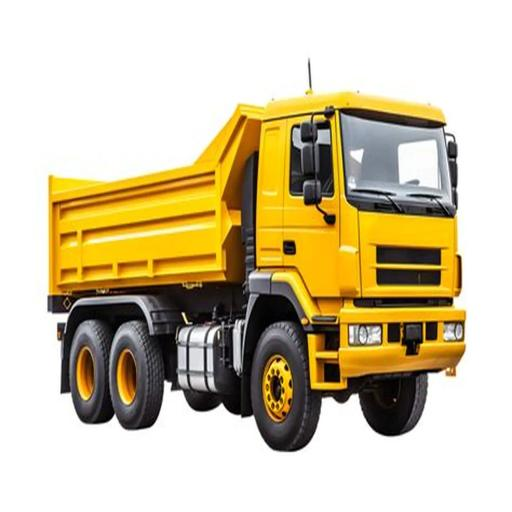truck: (47, 58, 466, 452)
